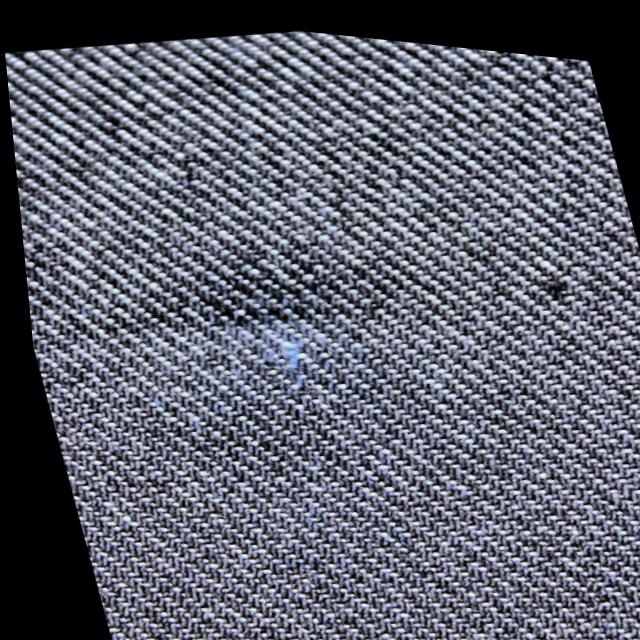Hole: (238, 313, 349, 405), (516, 250, 595, 327)
